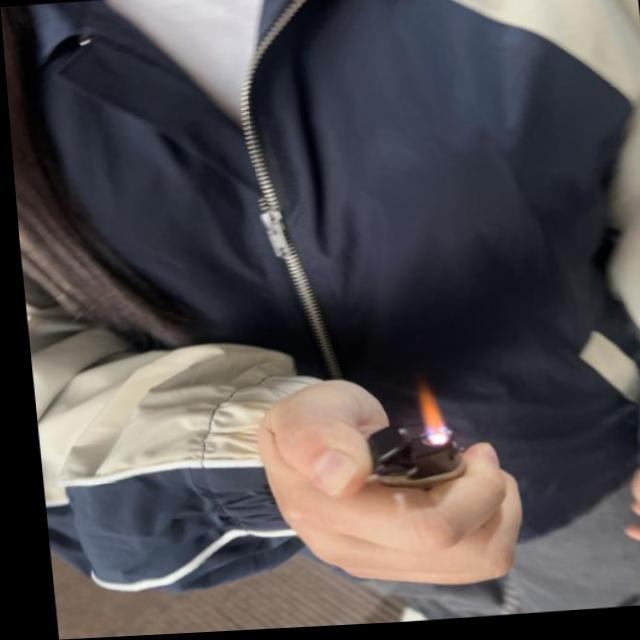Fire: (406, 382, 443, 449)
